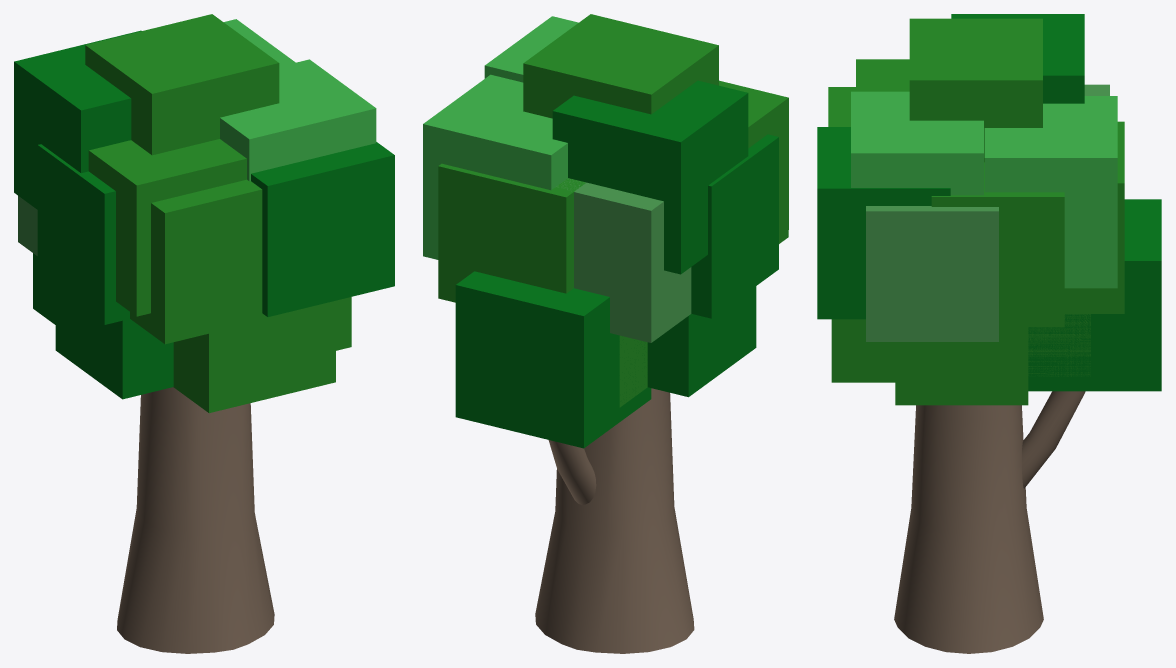
The model's file is newTree2.fbx.
The picture shows the model from 3 angles, left to right: view 1: azimuth 30°, elevation 25°; view 2: azimuth 150°, elevation 25°; view 3: azimuth 270°, elevation 25°; orthographic projection.
Parts seen in each view (by area): view 1: polySurface36; view 2: polySurface36; view 3: polySurface36.
Part boxes in pixels (x1=…): polySurface36: x1=14, y1=14, x2=394, y2=653; polySurface36: x1=423, y1=14, x2=788, y2=653; polySurface36: x1=817, y1=14, x2=1161, y2=653.
Bounding box in the file's own units: 0.846 × 1.76 × 0.971.
